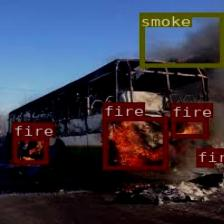fire: (102, 116, 167, 169), (11, 136, 47, 163), (171, 117, 207, 137), (196, 148, 212, 166)
smoke: (139, 12, 223, 66)
